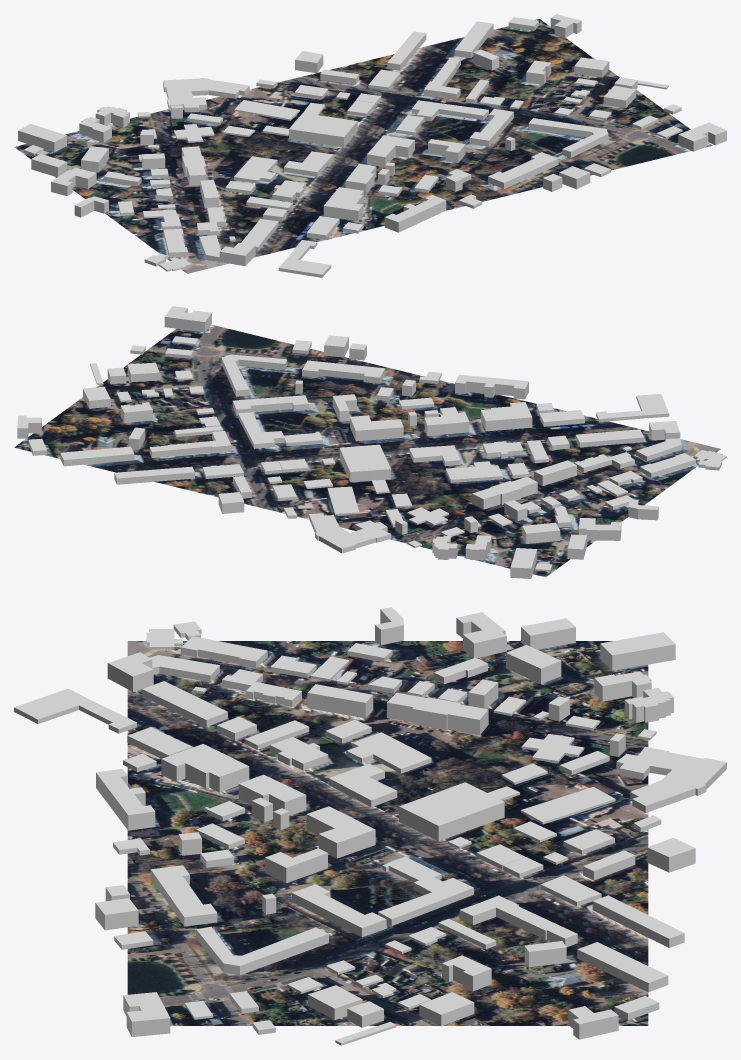
The model's file is Kostroma_Ostrovskiy.fbx.
3 views of the same model, one above another, from view 1: azimuth 30°, elevation 25°; view 2: azimuth 150°, elevation 25°; view 3: azimuth 270°, elevation 25° (orthographic). The views are drawn at different scales.
Visible parts, largest first — view 1: EXPORT_GOOGLE_SAT_WM, 344311787, Костромской государственный драм, 179941961, 179941944, 289161922, Островский, 175196748, Дом Борщова, 347635806, 345700911, 643936109 (+32 smaller); view 2: EXPORT_GOOGLE_SAT_WM, 344311787, Костромской государственный драм, 179941944, 289161922, Бизнес-центр "Старый город", 179941961, Островский, 175196748, 176174769, Дом Борщова, 347635805 (+31 smaller); view 3: EXPORT_GOOGLE_SAT_WM, 344311787, Костромской государственный драм, Бизнес-центр "Старый город", 179941961, Островский, 175196748, Дом Борщова, 179941944, 289161922, 347635805, 347635806 (+43 smaller).
Part boxes in pixels (box(x1,y1,x2,y2)): EXPORT_GOOGLE_SAT_WM: box(14, 18, 712, 273); 344311787: box(163, 78, 249, 112); Костромской государственный драм: box(289, 113, 357, 147); 179941961: box(528, 118, 608, 157); 179941944: box(384, 195, 446, 232); 289161922: box(488, 152, 558, 188); Островский: box(323, 187, 363, 220); 175196748: box(367, 135, 414, 167); Дом Борщова: box(278, 240, 331, 277); 347635806: box(411, 100, 488, 121); 345700911: box(678, 122, 726, 151); 643936109: box(18, 123, 66, 152); EXPORT_GOOGLE_SAT_WM: box(14, 324, 720, 577); 344311787: box(309, 513, 391, 553); Костромской государственный драм: box(339, 444, 390, 482); 179941944: box(455, 374, 528, 399); 289161922: box(302, 360, 385, 383); Бизнес-центр "Старый город": box(472, 476, 537, 509); 179941961: box(221, 354, 287, 396); Островский: box(481, 402, 532, 431); 175196748: box(350, 415, 403, 441); 176174769: box(60, 446, 134, 466); Дом Борщова: box(596, 394, 669, 422); 347635805: box(232, 395, 308, 415); EXPORT_GOOGLE_SAT_WM: box(127, 641, 648, 1025); 344311787: box(616, 746, 726, 812); Костромской государственный драм: box(399, 782, 504, 841); Бизнес-центр "Старый город": box(387, 693, 488, 735); 179941961: box(196, 926, 328, 975); Островский: box(161, 744, 249, 792); 175196748: box(306, 806, 375, 858); Дом Борщова: box(14, 688, 136, 733); 179941944: box(96, 768, 155, 830); 289161922: box(150, 865, 217, 926); 347635805: box(292, 884, 386, 937); 347635806: box(378, 876, 473, 926).
Bounding box in the file's own units: 117578 × 2000 × 83757.
